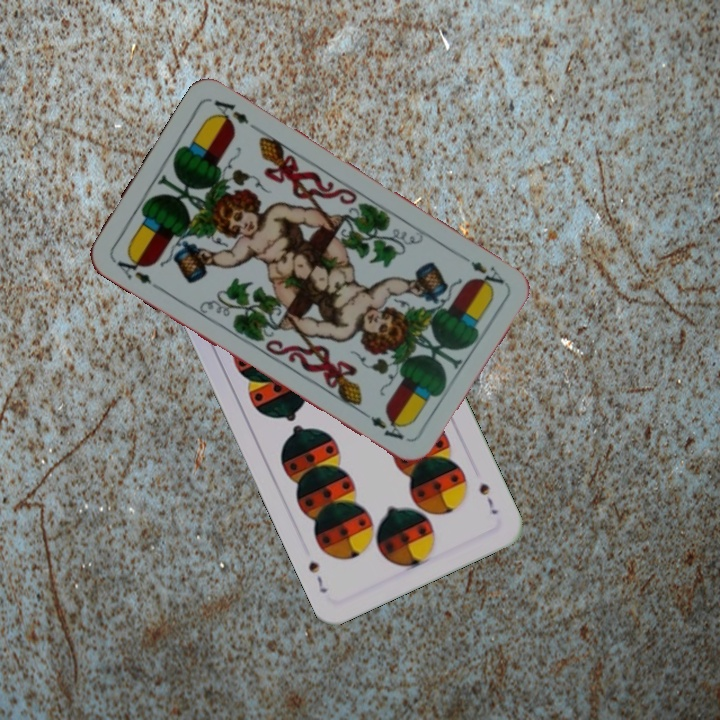EA: (455, 250, 508, 293), (109, 250, 155, 287)
S7: (475, 479, 500, 517)
